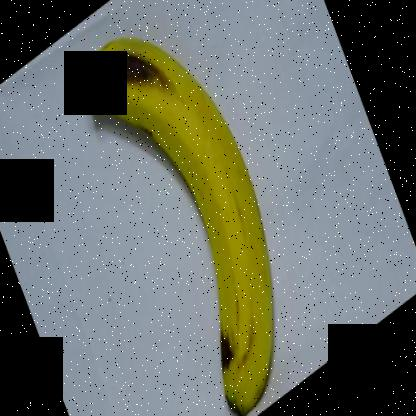freshripe: (69, 19, 293, 415)
